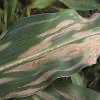Corn leaf blight: (2, 12, 99, 85)
